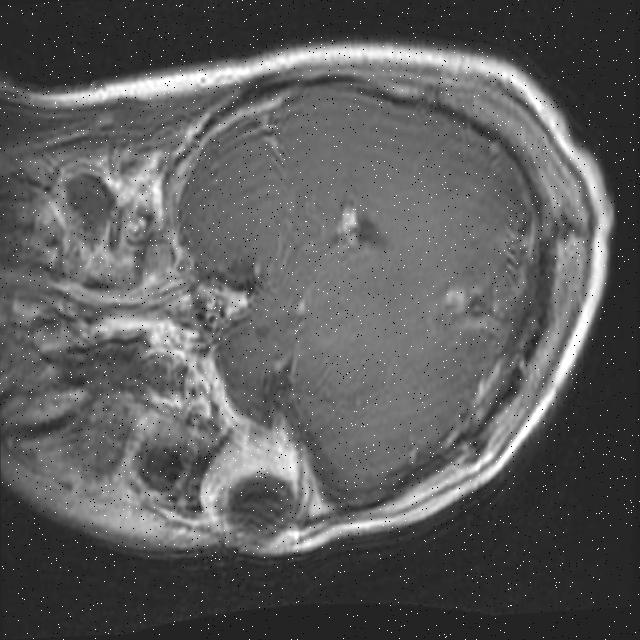Glioma: (442, 279, 520, 337)
